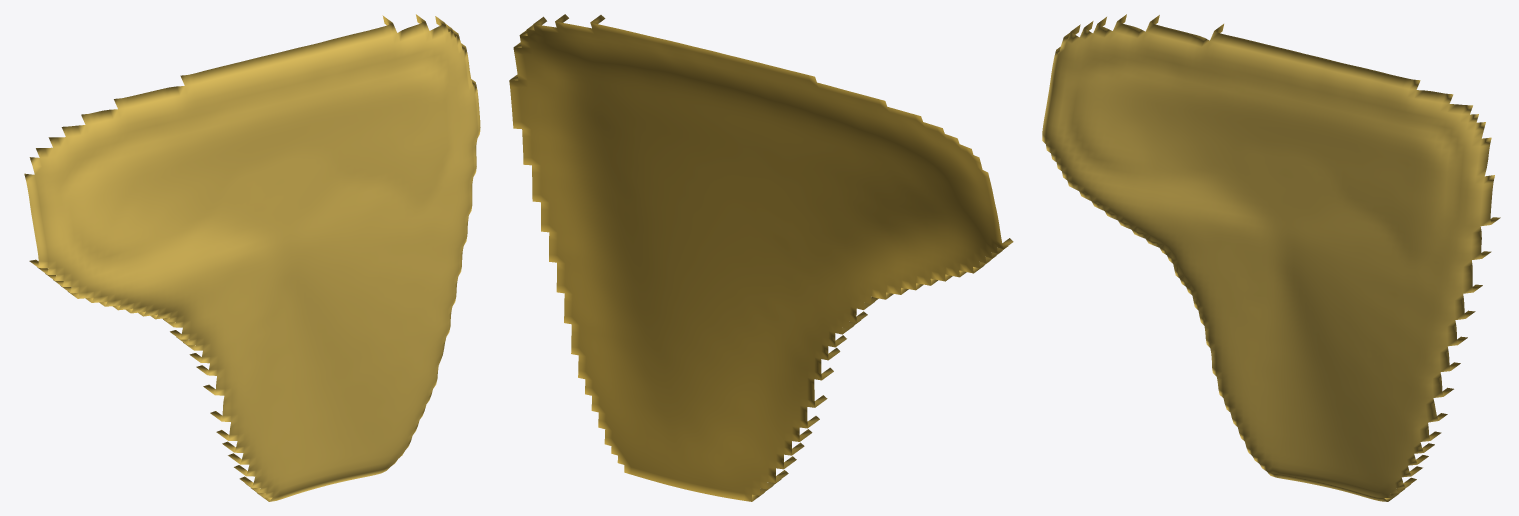
Rendered from PAIR-MET-BAR_RIGHT_addon.glb.
3 views of the same model, side by side, from view 1: azimuth 30°, elevation 25°; view 2: azimuth 150°, elevation 25°; view 3: azimuth 330°, elevation 25° (orthographic). The views are drawn at different scales.
Parts seen in each view (by area): view 1: geometry_0; view 2: geometry_0; view 3: geometry_0.
Boxes of the visible parts, x1,y1,x2,y2 form: geometry_0: (24, 14, 480, 501); geometry_0: (509, 14, 1013, 501); geometry_0: (1042, 14, 1500, 501).
Size of the model in its own units: 68 by 62 by 10.56.
